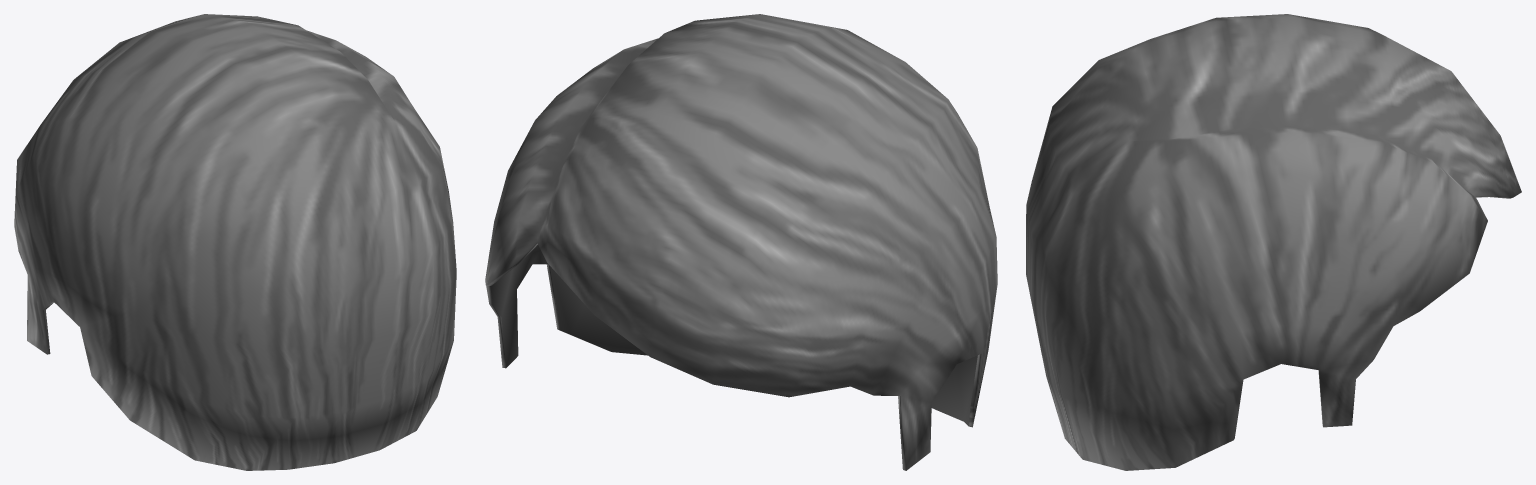
The picture shows the model from 3 angles, left to right: view 1: azimuth 30°, elevation 25°; view 2: azimuth 150°, elevation 25°; view 3: azimuth 270°, elevation 25°; orthographic projection. The views are drawn at different scales.
Visible parts, largest first — view 1: geometry_0; view 2: geometry_0; view 3: geometry_0.
Part boxes in pixels (x1,y1,x2,y2): geometry_0: [14, 14, 456, 470]; geometry_0: [485, 14, 997, 470]; geometry_0: [1026, 14, 1521, 470].
Size of the model in its own units: 1.28 by 1.19 by 1.4.
1 material, 1 textured.
